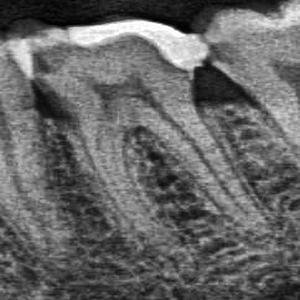tooth: (27, 25, 246, 246), (202, 4, 299, 190)
